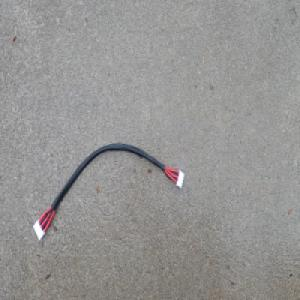Wire: (32, 140, 185, 241)
